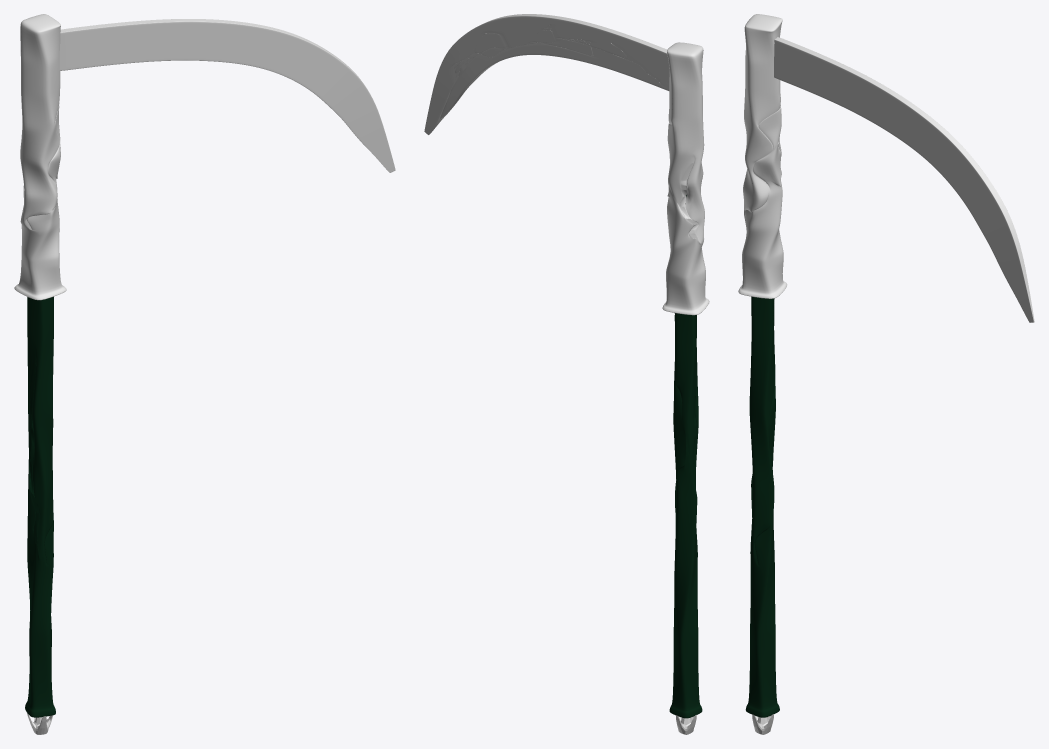
Rendered from scythe_for_battle_talent_v2.fbx.
The picture shows the model from 3 angles, left to right: view 1: azimuth 30°, elevation 25°; view 2: azimuth 150°, elevation 25°; view 3: azimuth 330°, elevation 25°; orthographic projection. The views are drawn at different scales.
Parts seen in each view (by area): view 1: Cube.002, Cube.003, Cube; view 2: Cube.002, Cube.003, Cube; view 3: Cube.002, Cube, Cube.003.
Part boxes in pixels (box(x1,y1,x2,y2)): Cube.002: box(59, 19, 395, 172); Cube.003: box(14, 14, 66, 300); Cube: box(25, 296, 55, 717); Cube.002: box(424, 14, 669, 134); Cube.003: box(662, 42, 709, 315); Cube: box(669, 195, 702, 718); Cube.002: box(774, 37, 1034, 322); Cube: box(745, 296, 779, 717); Cube.003: box(738, 14, 787, 298).
Size of the model in its own units: 21.32 by 43.54 by 5.94.
